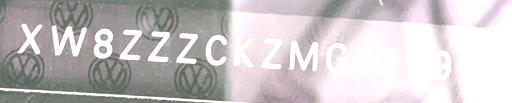letter: (50, 22, 88, 59), (286, 39, 318, 74), (16, 21, 44, 54), (202, 33, 228, 68), (258, 37, 284, 72), (147, 29, 171, 64), (324, 40, 348, 75), (118, 29, 142, 62), (174, 32, 198, 65), (232, 35, 254, 70), (92, 26, 114, 59), (404, 46, 426, 79), (430, 48, 452, 81), (378, 46, 400, 77), (354, 44, 374, 77), (458, 49, 478, 82), (487, 52, 499, 83)
